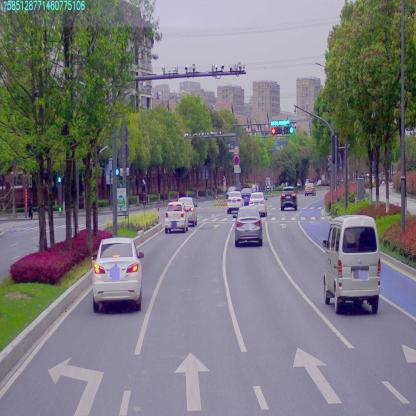traffic-light: (271, 119, 290, 126), (284, 125, 294, 134), (272, 128, 282, 134)
